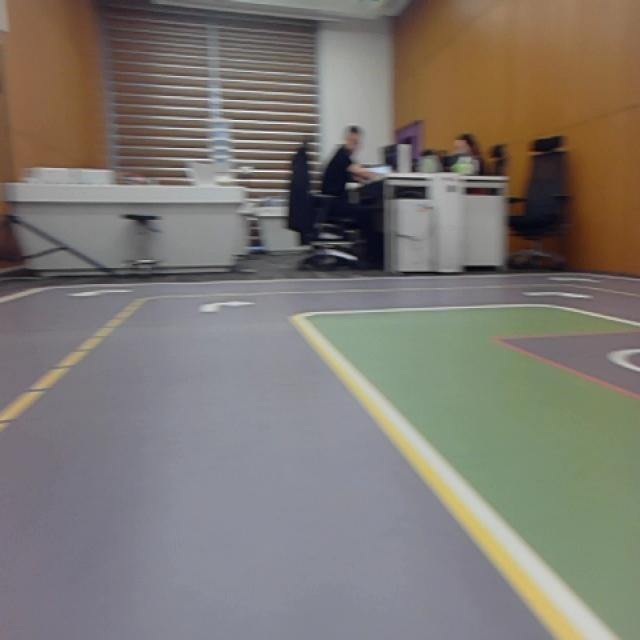left_lane: (0, 297, 146, 433)
right_lane: (293, 320, 588, 639)
